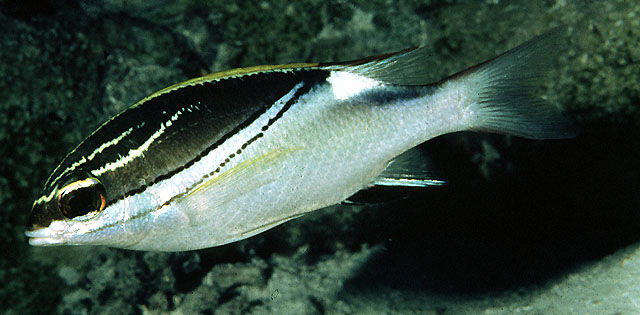fish: (24, 26, 571, 252)
